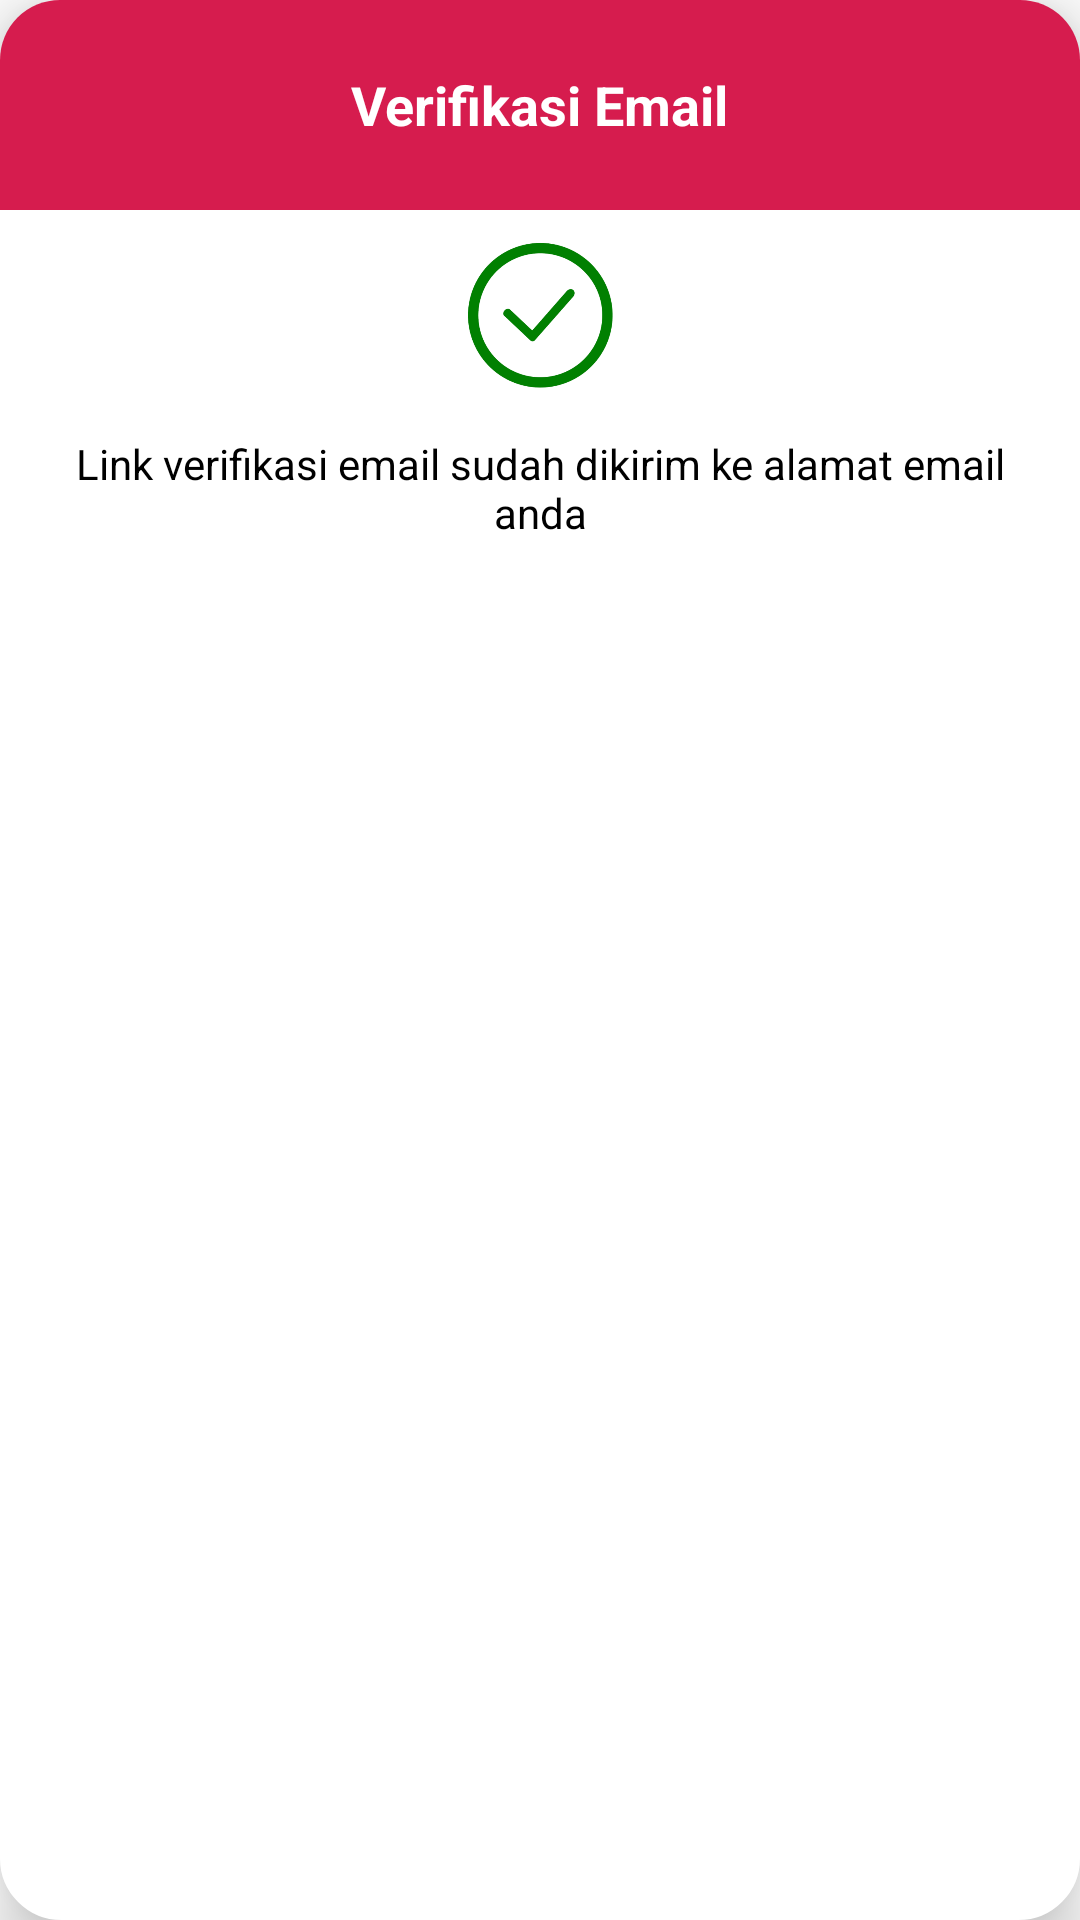

Icon bounding boxes for this 1080*1920 phone screenshot, format (x1, y1, x2, y2):
check: (468, 243, 613, 388)
